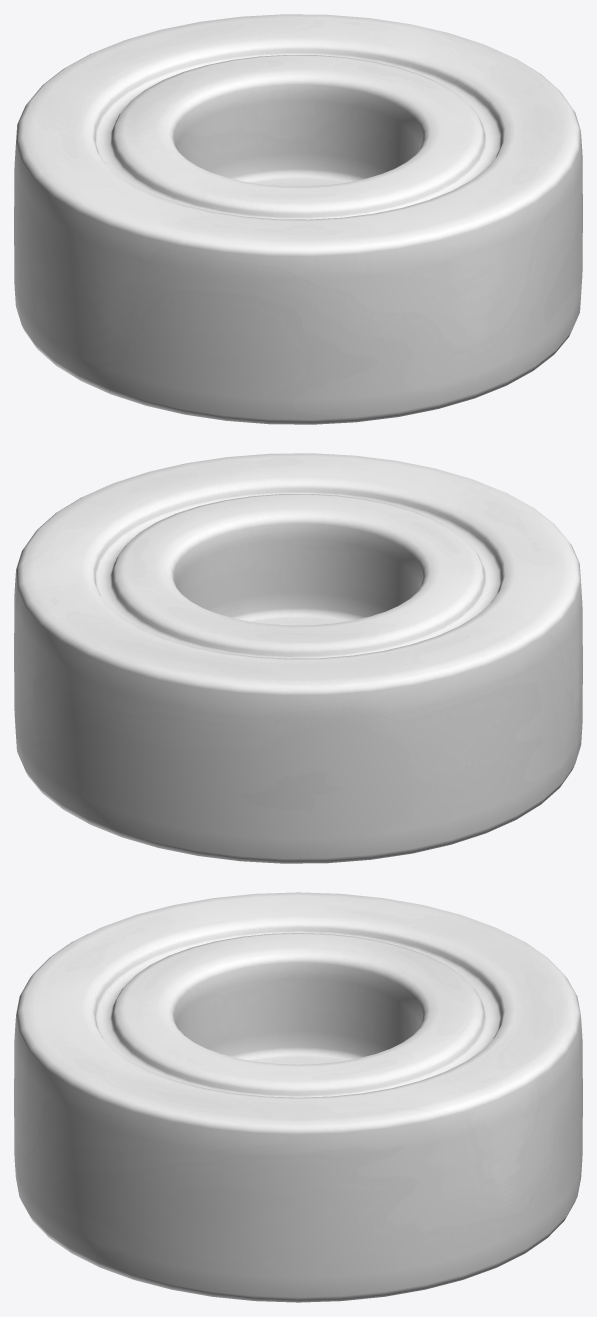
Rendered from Pin_Model_10.fbx.
3 views of the same model, one above another, from view 1: azimuth 30°, elevation 25°; view 2: azimuth 150°, elevation 25°; view 3: azimuth 270°, elevation 25° (orthographic).
Parts seen in each view (by area): view 1: Pin_Coin; view 2: Pin_Coin; view 3: Pin_Coin.
Boxes of the visible parts, x1,y1,x2,y2 form: Pin_Coin: (14, 14, 582, 424); Pin_Coin: (14, 453, 582, 863); Pin_Coin: (14, 892, 582, 1302).
Bounding box in the file's own units: 0.5606 × 0.1972 × 0.5606.
1 material, 1 textured.
